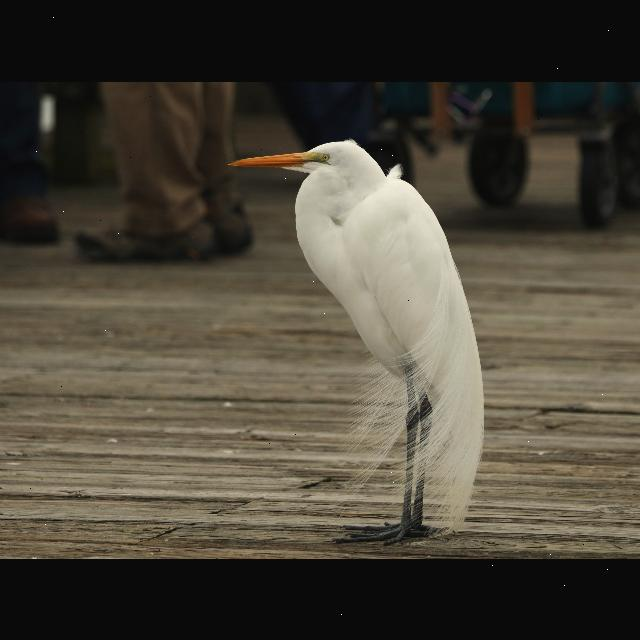egret: (230, 138, 486, 546)
